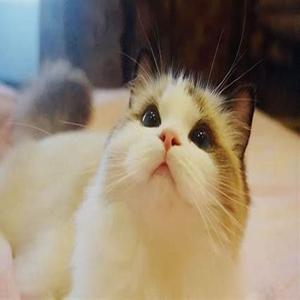cat: (103, 75, 252, 210)
